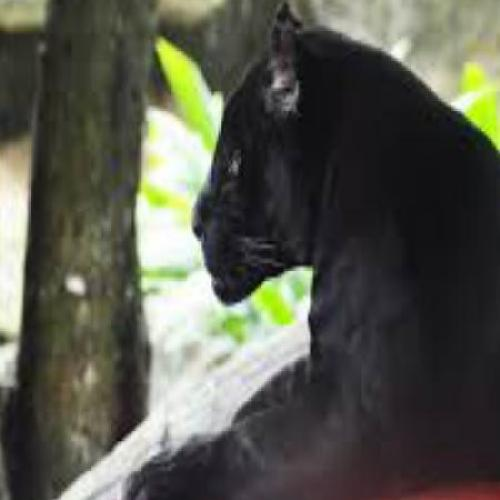panther-endangered: (116, 7, 500, 500)
